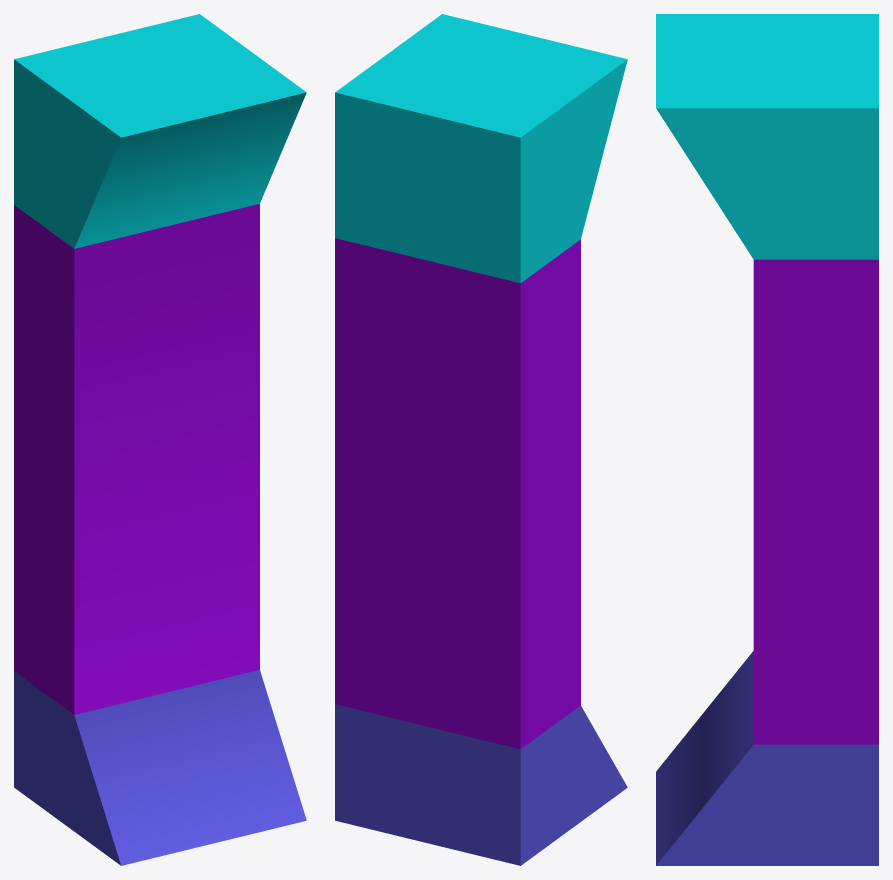
Rendered from PlayerLeg.fbx.
The picture shows the model from 3 angles, left to right: view 1: azimuth 30°, elevation 25°; view 2: azimuth 150°, elevation 25°; view 3: azimuth 270°, elevation 25°; orthographic projection. The views are drawn at different scales.
Visible parts, largest first — view 1: pCube3; view 2: pCube3; view 3: pCube3.
Part boxes in pixels (left/top/right/bottom): pCube3: left=14, top=14, right=306, bottom=865; pCube3: left=335, top=14, right=627, bottom=865; pCube3: left=656, top=14, right=878, bottom=865.
Size of the model in its own units: 0.2 by 0.75 by 0.2.
